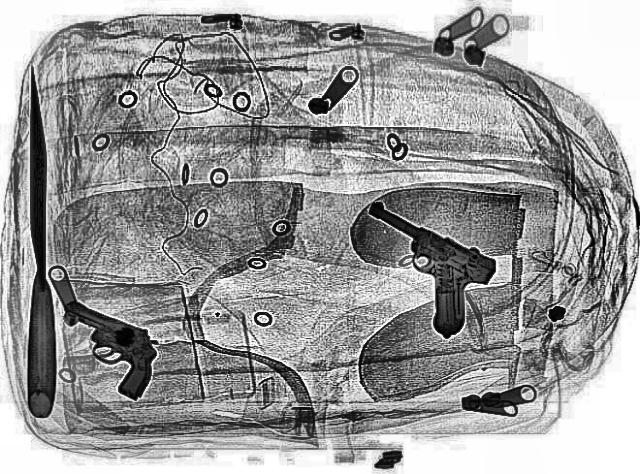Gun: (302, 199, 520, 337), (22, 295, 188, 401)
Knife: (20, 63, 54, 417)
